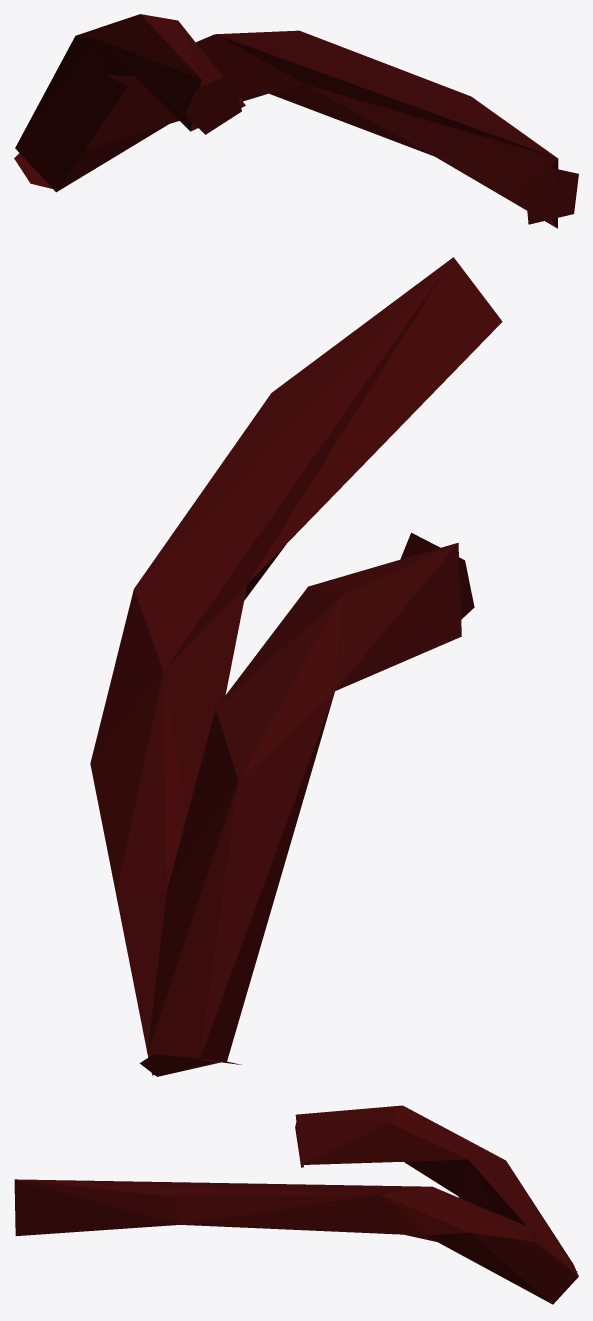
File: front_right_steer_114.dae
The picture shows the model from 3 angles, top to bottom: view 1: azimuth 30°, elevation 25°; view 2: azimuth 150°, elevation 25°; view 3: azimuth 270°, elevation 25°; orthographic projection. The views are drawn at different scales.
Parts seen in each view (by area): view 1: node; view 2: node; view 3: node.
Boxes of the visible parts, x1=… form: node: x1=14, y1=14, x2=578, y2=228; node: x1=90, y1=257, x2=502, y2=1076; node: x1=14, y1=1105, x2=578, y2=1304.
Bounding box in the file's own units: 0.023 × 0.0644 × 0.0241.
